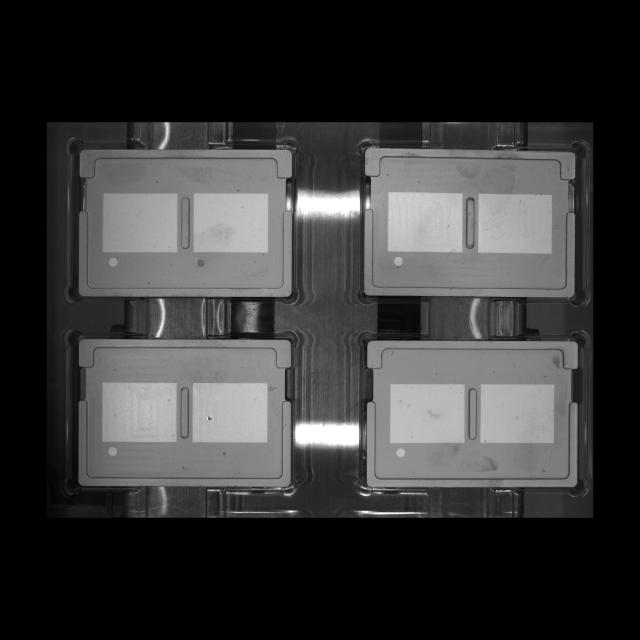product: (354, 138, 590, 310), (63, 326, 299, 496), (66, 136, 301, 306), (353, 329, 587, 498)
